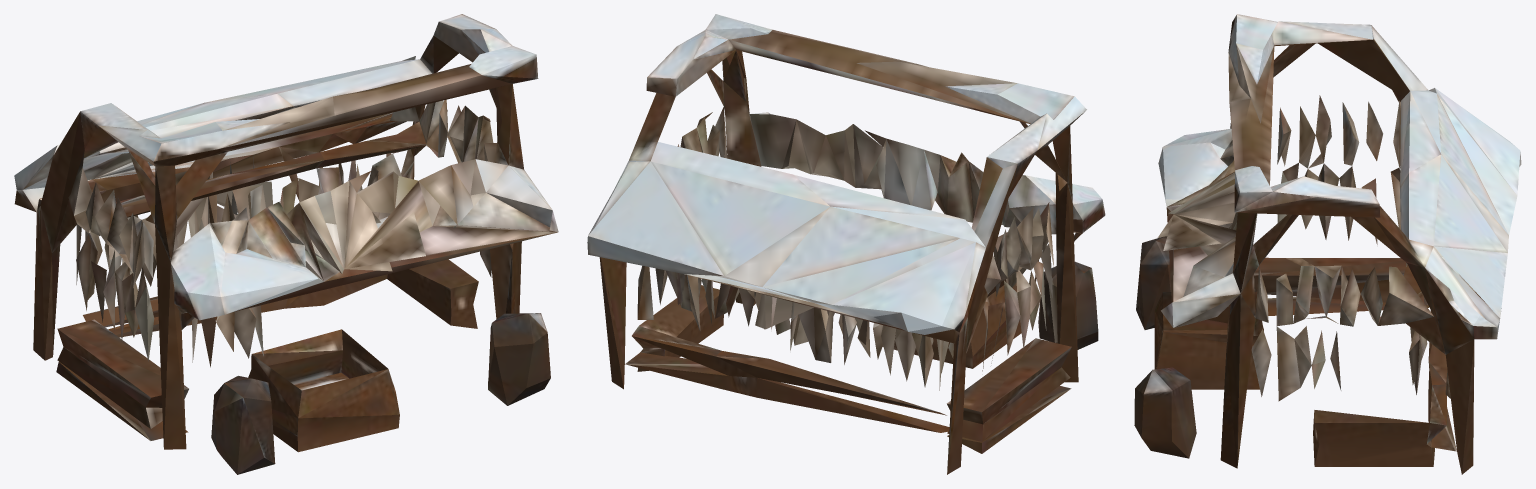
Rendered from fishrack.glb.
3 renders of one model, left to right at view 1: azimuth 30°, elevation 25°; view 2: azimuth 150°, elevation 25°; view 3: azimuth 270°, elevation 25°, orthographic. The views are drawn at different scales.
Bounding box in the file's own units: 1.88 × 1.42 × 1.71.
1 material, 1 textured.
